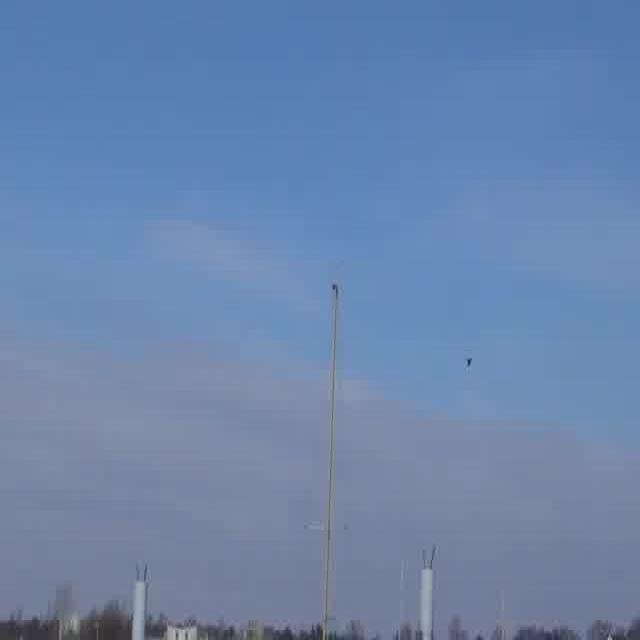bird: (462, 357, 480, 371)
